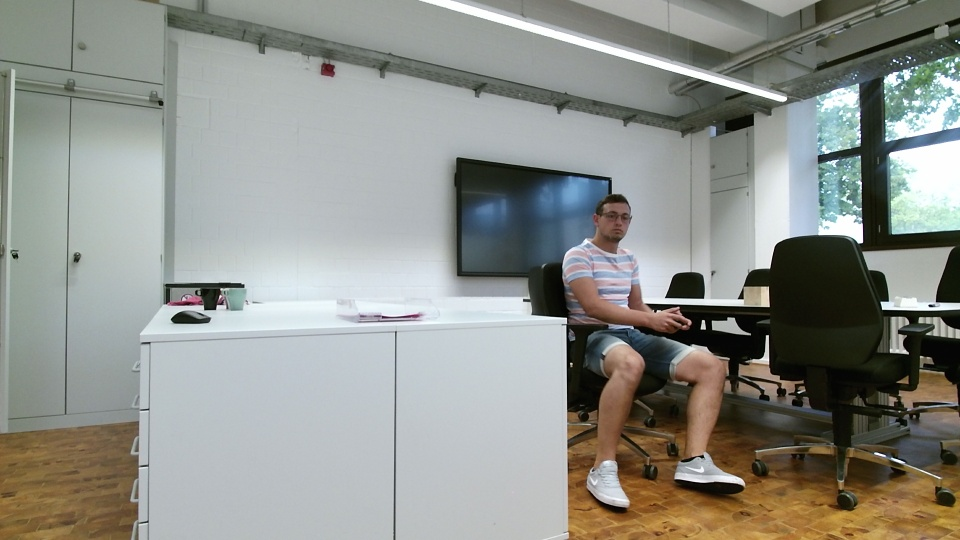person: (558, 191, 754, 520)
